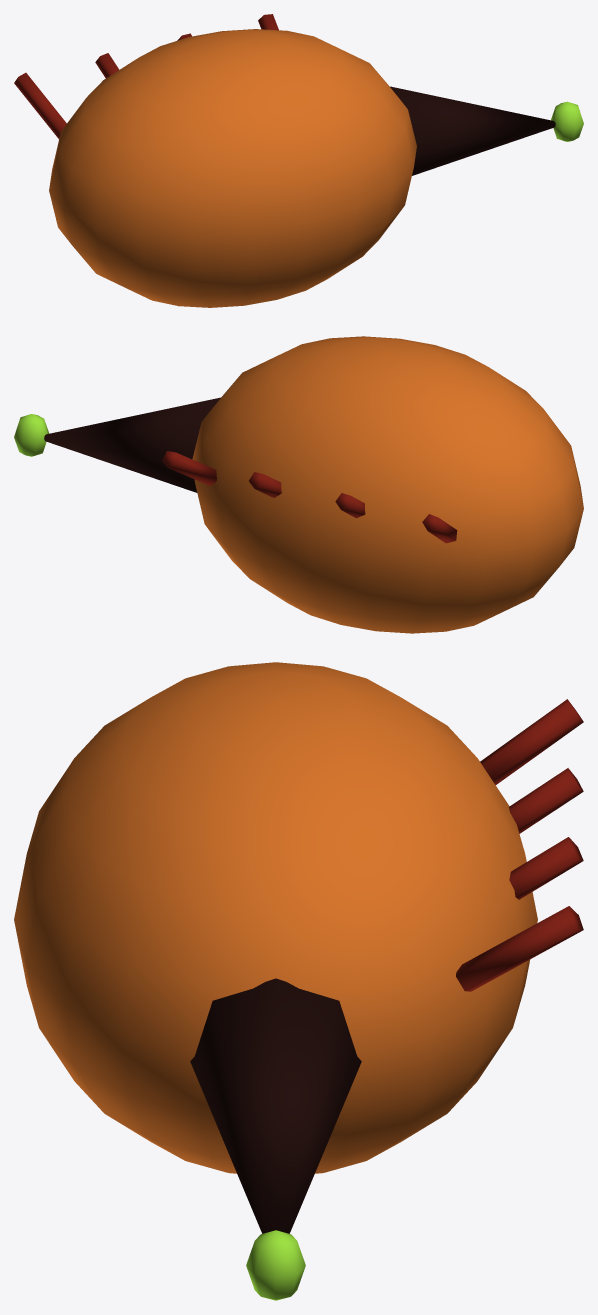
The model's file is giftdruese.glb.
3 views of the same model, one above another, from view 1: azimuth 30°, elevation 25°; view 2: azimuth 150°, elevation 25°; view 3: azimuth 270°, elevation 25° (orthographic). The views are drawn at different scales.
Parts seen in each view (by area): view 1: Sphere; view 2: Sphere; view 3: Sphere.
Boxes of the visible parts, x1,y1,x2,y2 form: Sphere: (14,14,583,307); Sphere: (14,336,583,633); Sphere: (14,662,583,1300).
Bounding box in the file's own units: 0.1395 × 0.063 × 0.0761.
